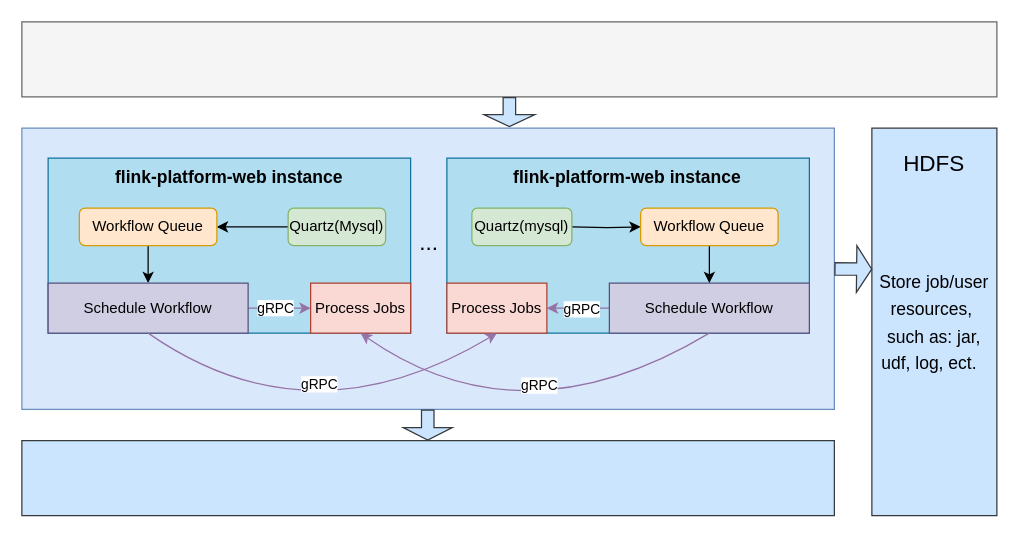
Some shapes in this 1019 by 538 pixel diagram are drawn without their labels. The centre of each missing label's shape, as x and y in pixels:
"MySQL（Quartz / Business Tables）" goes at (x=427, y=477).
"UI flink-platform-frontend" goes at (x=509, y=59).
